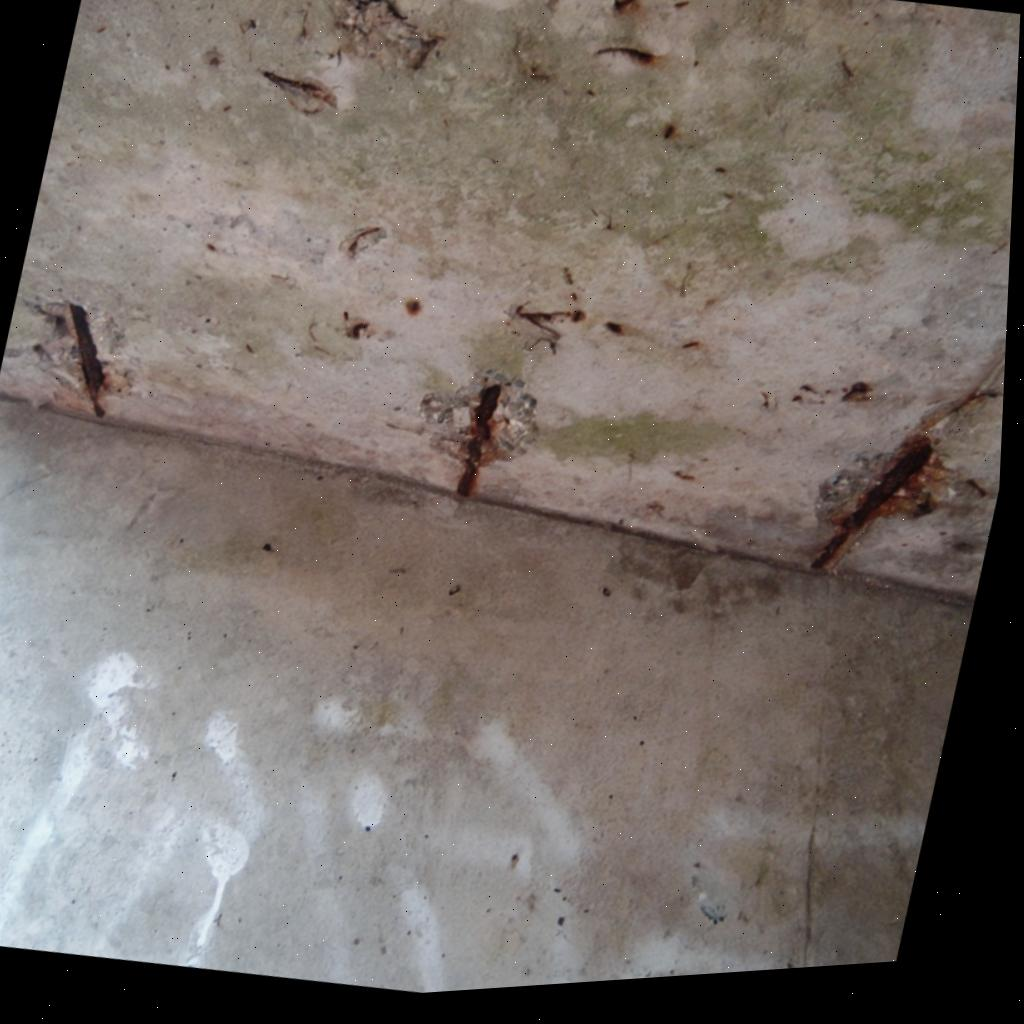exposed_rebar: (811, 435, 934, 572), (456, 383, 503, 498), (68, 303, 105, 415)
spalling: (811, 437, 988, 570), (419, 371, 539, 498), (33, 301, 126, 416)
